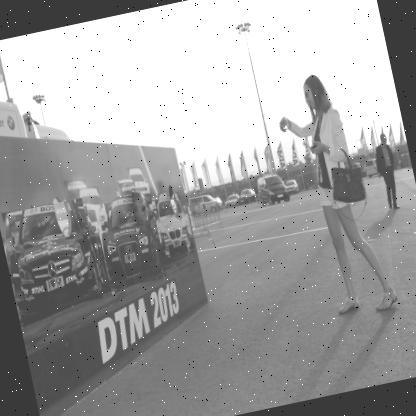Car: (7, 197, 104, 314), (93, 190, 168, 290), (151, 194, 196, 258), (254, 170, 292, 208), (188, 188, 224, 218), (236, 187, 257, 206), (222, 189, 242, 207), (284, 178, 300, 196)
